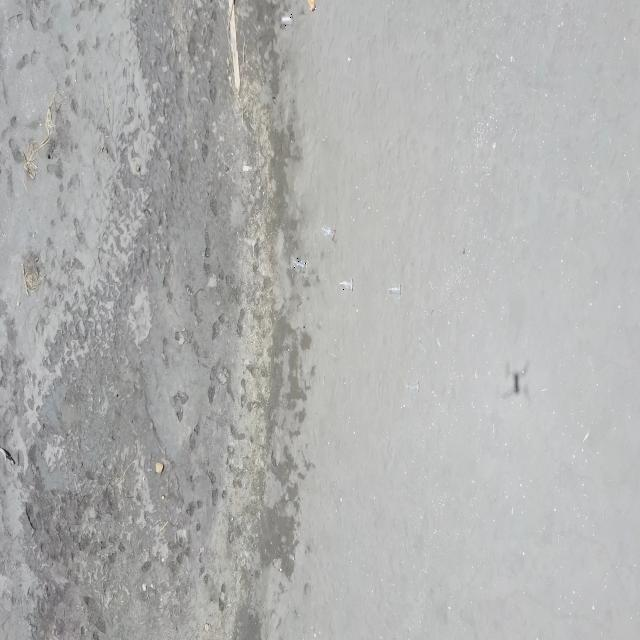plastic-bottle: (308, 0, 316, 12)
takeaway-cup: (292, 256, 307, 274), (322, 225, 336, 240), (339, 278, 353, 290), (282, 13, 294, 26), (408, 381, 420, 394), (388, 285, 403, 295)
